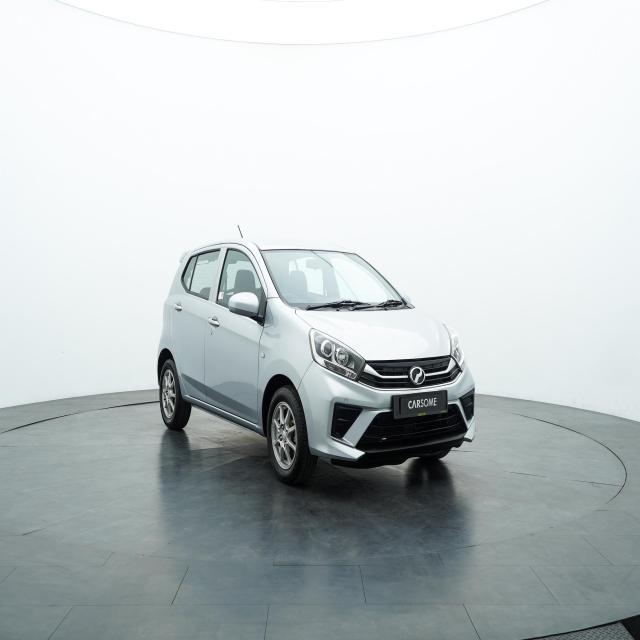PeroduaAxia: (154, 225, 477, 486)
